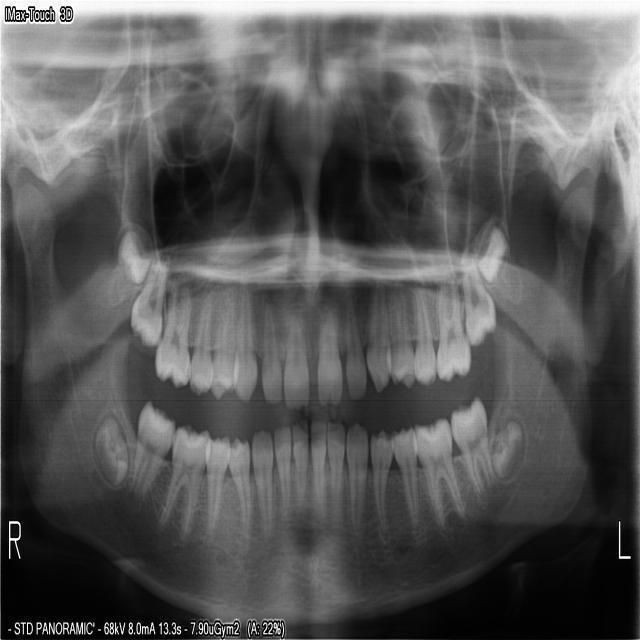LCD: (342, 413, 367, 540)
LCU: (361, 264, 391, 393)
LID: (324, 415, 344, 526), (307, 413, 324, 522)
LIU: (313, 283, 341, 405), (342, 282, 367, 403)
LMD: (407, 412, 465, 531), (446, 390, 494, 496)
LMU: (432, 261, 470, 385), (457, 242, 495, 348), (470, 212, 508, 284)
LPMD: (386, 420, 418, 536), (366, 422, 394, 536)
LPMU: (383, 259, 415, 392), (407, 261, 436, 388)
RCD: (247, 424, 271, 544)
RCU: (229, 265, 257, 404)
RID: (270, 421, 289, 513), (288, 412, 306, 508)
RIU: (280, 289, 308, 410), (257, 293, 280, 404)
RMD: (153, 417, 210, 541), (125, 395, 175, 497)
RMU: (151, 269, 191, 390), (124, 249, 169, 349)
RPMD: (200, 431, 229, 541), (222, 431, 249, 543)
RPMU: (204, 260, 239, 403), (184, 275, 215, 398)
